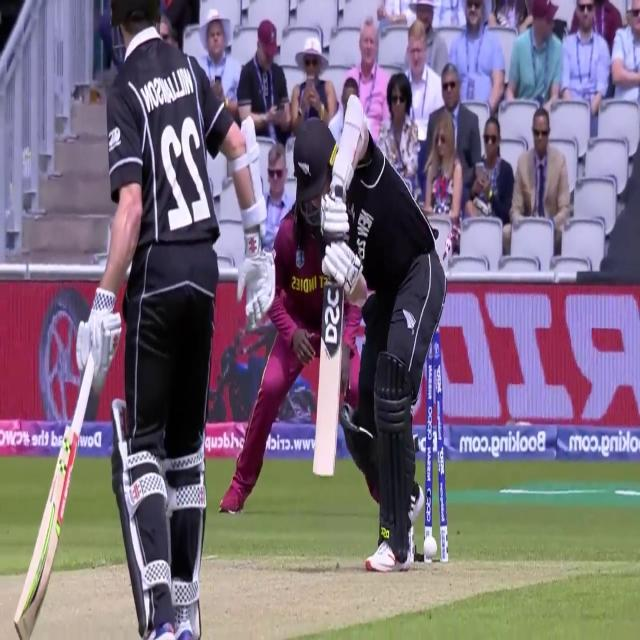ball: (418, 528, 438, 566)
